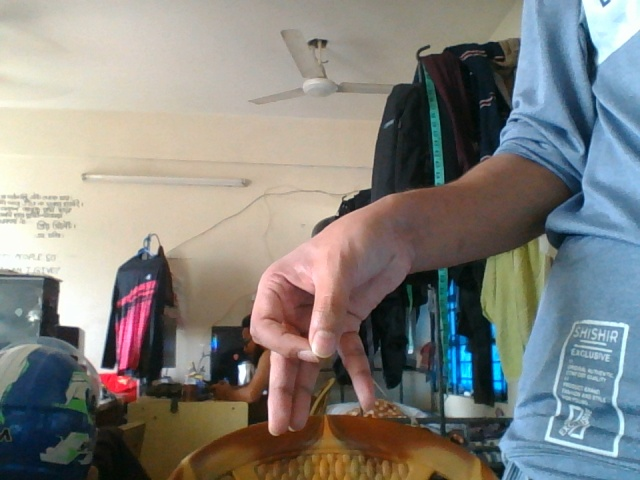pa: (246, 192, 419, 439)
